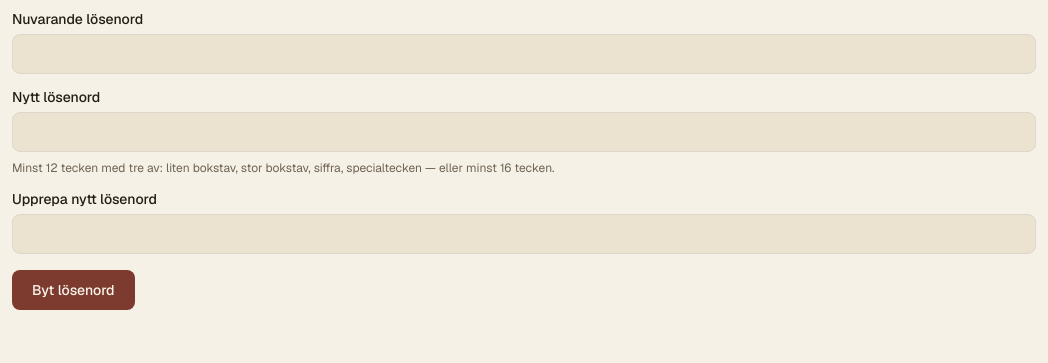
ChangePasswordForm — klientvalidering speglar serverns policy › "endastgemener"
This screenshot has width=1048, height=363.
In the password field labelled "Nuvarande lösenord": point(524, 54) left=12, top=34, right=1036, bottom=74, type "gammalt"
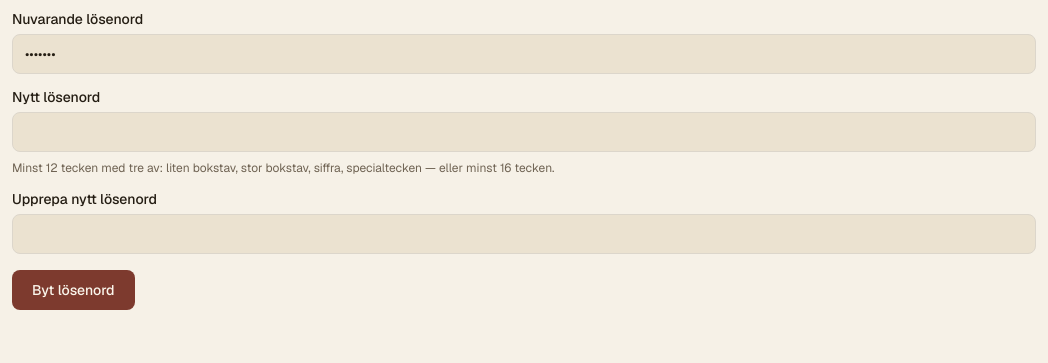
In the password field labelled "Nytt lösenord": point(524, 132) left=12, top=112, right=1036, bottom=152, type "endastgemener"
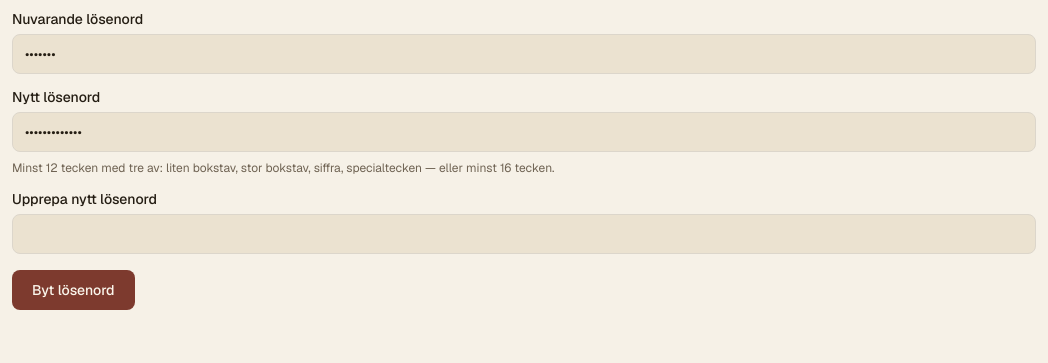
In the password field labelled "Upprepa nytt lösenord": point(524, 234) left=12, top=214, right=1036, bottom=254, type "endastgemener"
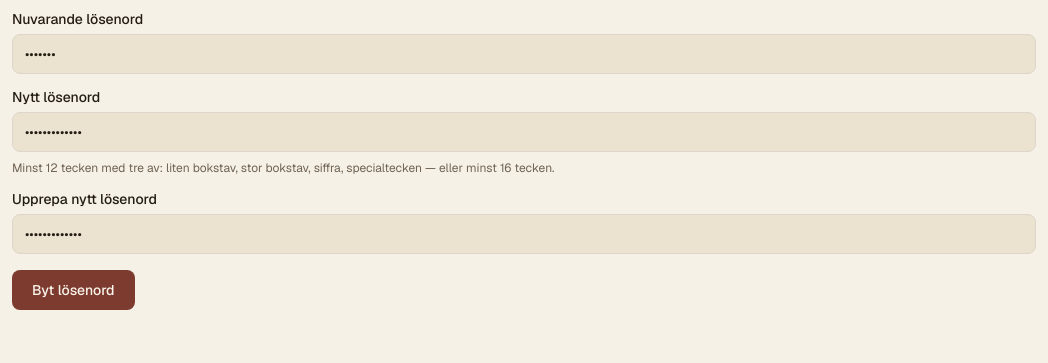
Click the button "Byt lösenord": point(73, 290) left=12, top=270, right=135, bottom=310
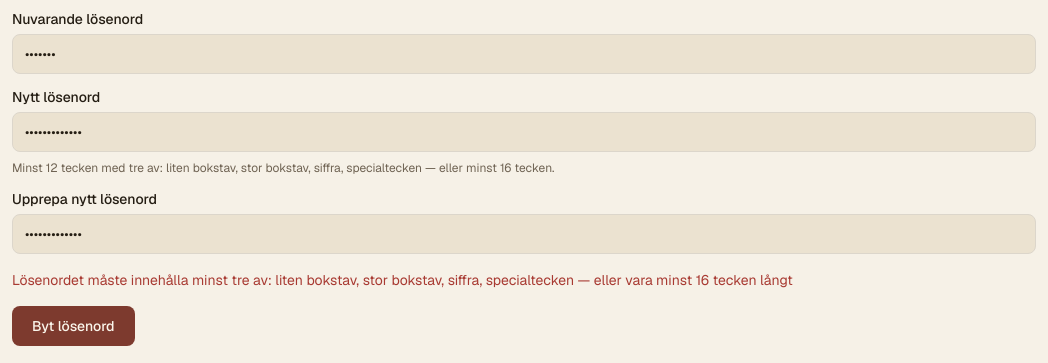
Expected: the message shows "Lösenordet måste innehålla minst tre av: liten bokstav, stor bokstav, siffra, specialtecken — eller vara minst 16 tecken långt", left=12, top=271, right=793, bottom=289
